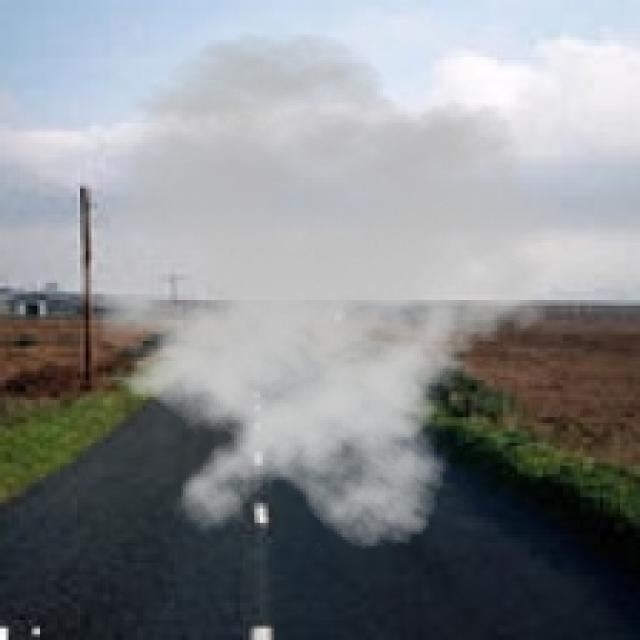smoke: (31, 31, 580, 552)
